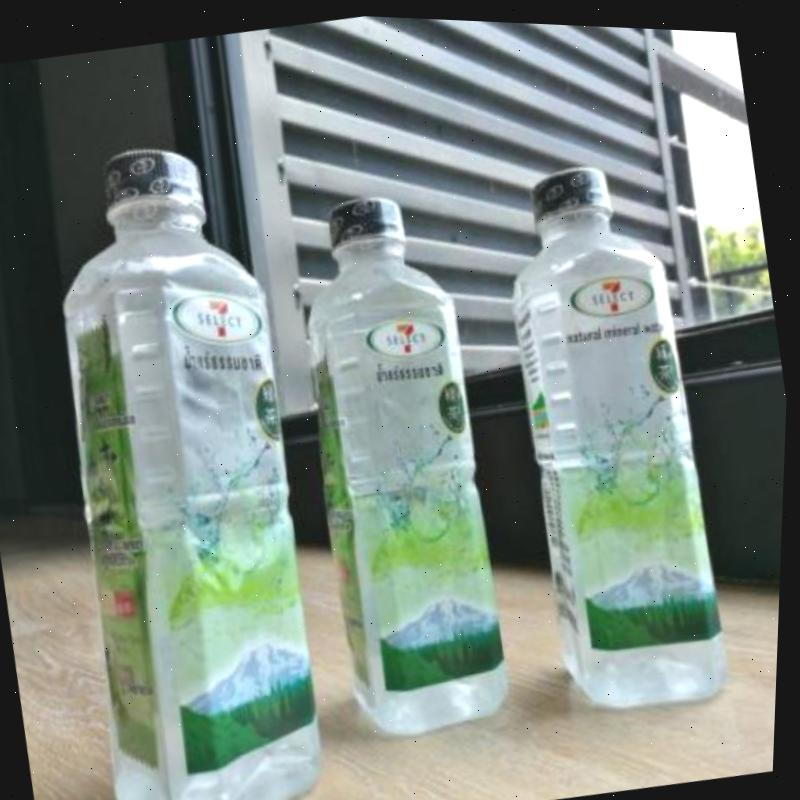botella: (0, 124, 365, 800), (478, 148, 751, 722), (273, 176, 531, 741)
